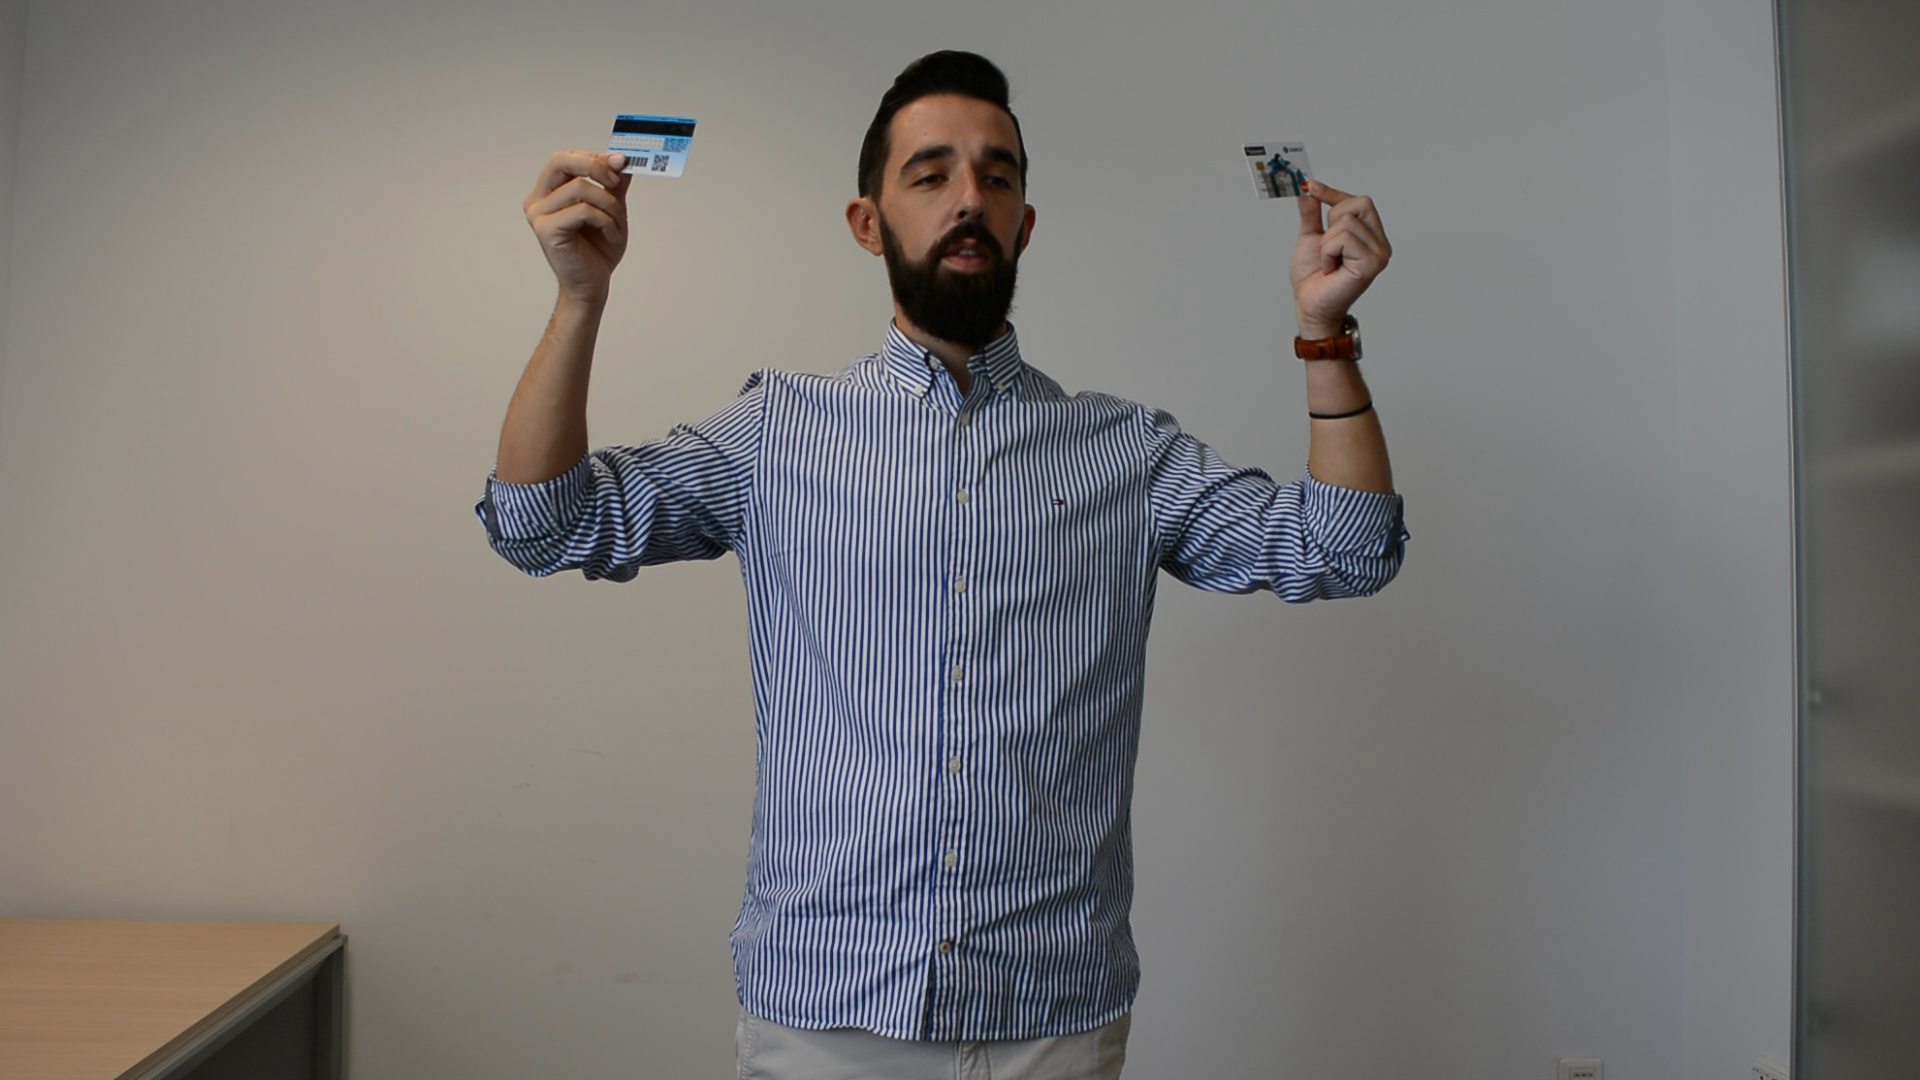tarjeta: (603, 112, 700, 179), (1241, 137, 1325, 200)
